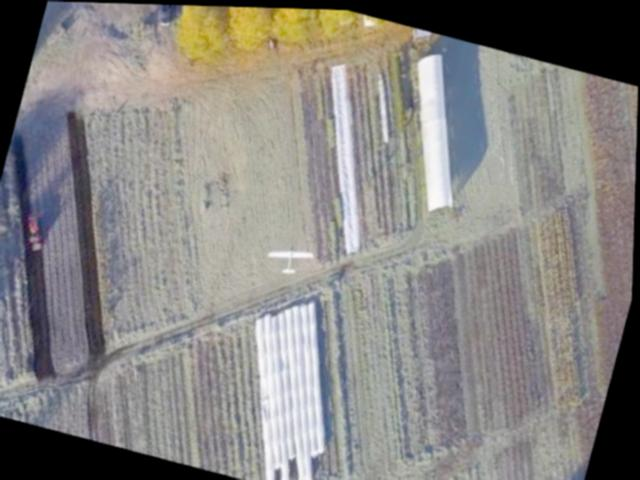uav: (260, 234, 321, 280)
